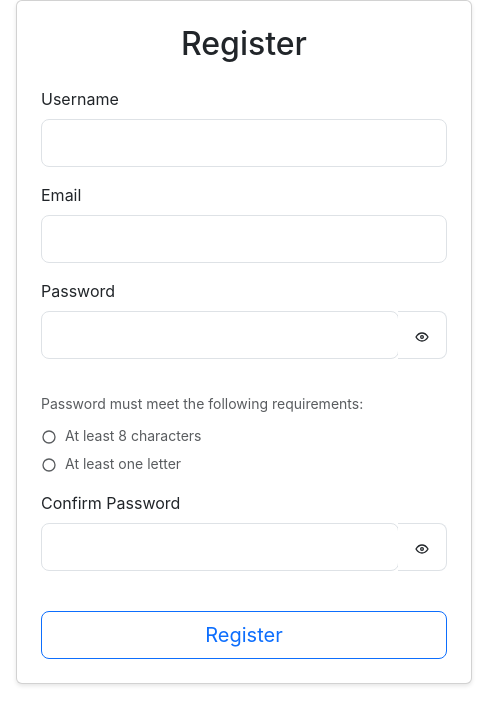
Test: Register Component › shows validation error for invalid email format
The image size is (489, 728).
Fill in form with invalid email format
Type "testuser" into the field labelled "Username" at (244, 143), box [41,119,447,167]
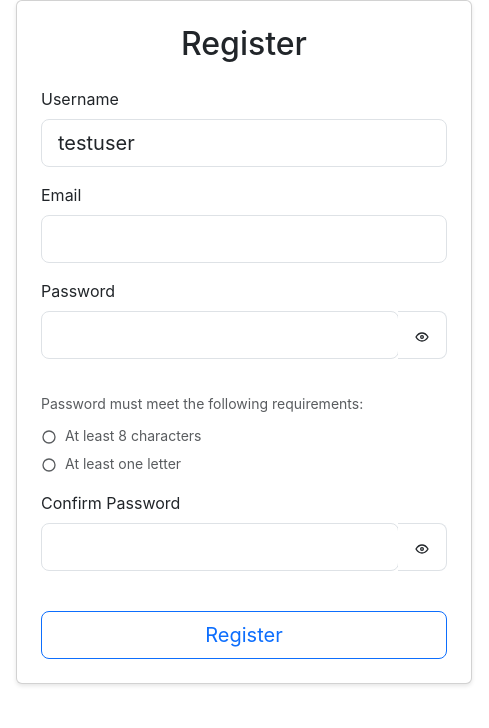
Type "invalid-email" into the field labelled "Email" at (244, 239), box [41,215,447,263]
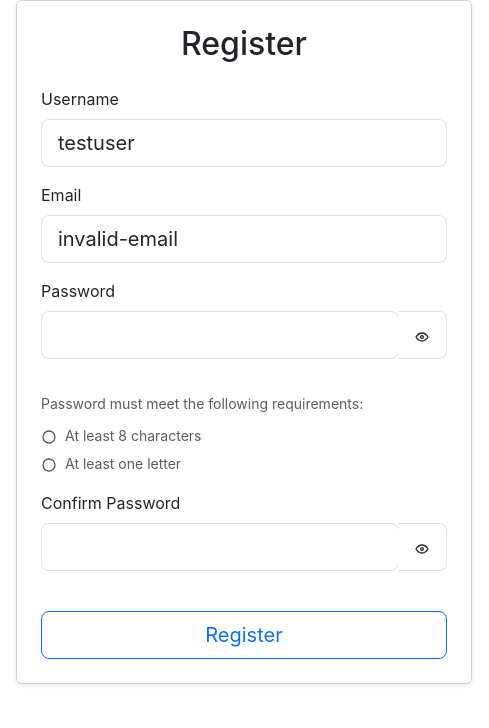
Type "password123" into the password field labelled "Password" at (220, 335), box [41,311,399,359]
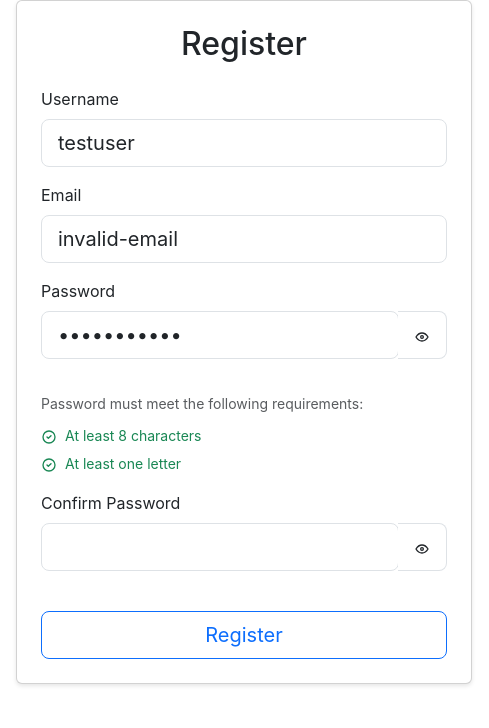
Type "password123" into the password field labelled "Confirm Password" at (220, 547), box [41,523,399,571]
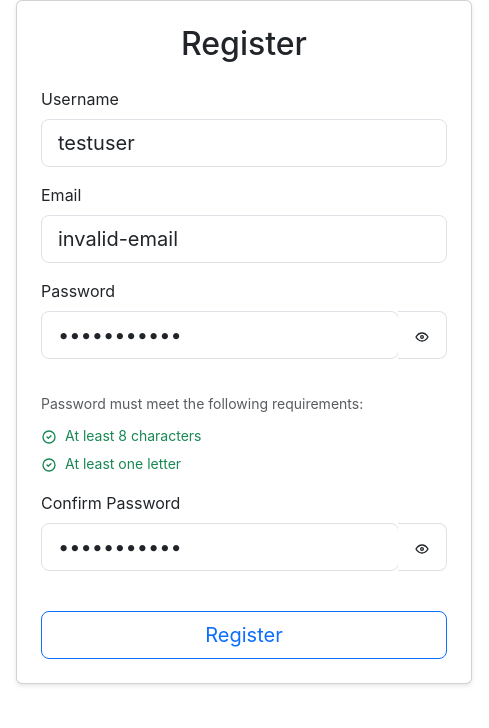
Submit the form
Click the button "Register" at (244, 635), box [41,611,447,659]
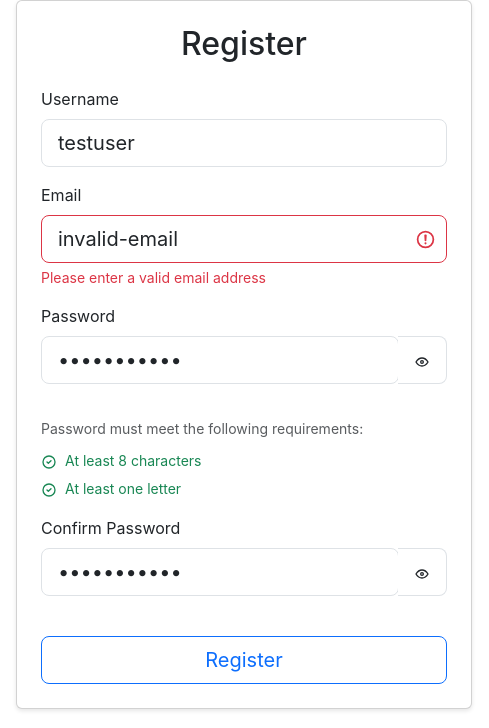
Expected: the text "Please enter a valid email address" is shown, [41,269,266,286]
